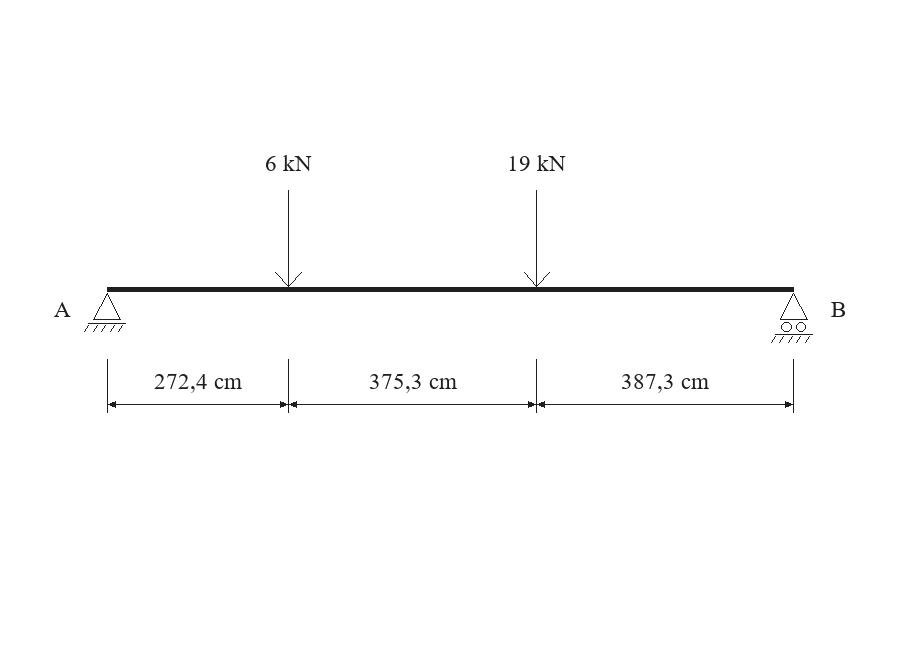pin_support: (84, 293, 126, 332)
point_load: (275, 190, 302, 287), (524, 190, 550, 287)
roller_support: (771, 293, 813, 343)
